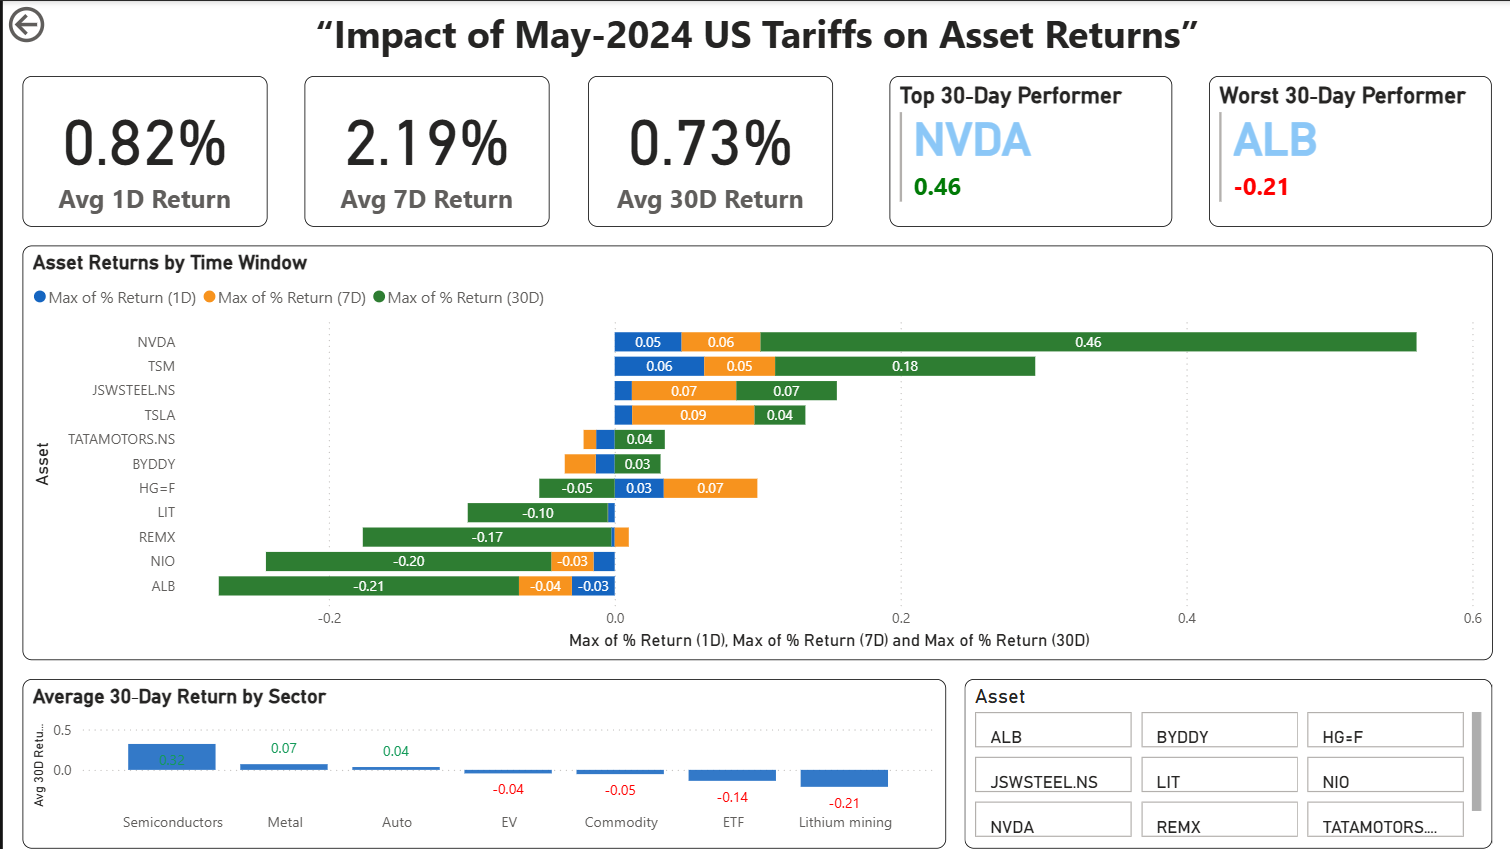

The dashboard page shown, as its layout file describes it:
{"tool":"powerbi","page":{"name":"Page 1","canvas":[1280,720],"ordinal":0},"visuals":[{"type":"textbox","box":[0,0,1280,64],"z":0},{"type":"card","title":"Avg 1-Day","fields":{"Values":["Tariff_Impact.Avg 1D Return"]},"box":[16,64,208,128],"z":1},{"type":"card","fields":{"Values":["Tariff_Impact.Avg 7D Return"]},"box":[256,64,208,128],"z":2},{"type":"card","fields":{"Values":["Tariff_Impact.Avg 30D Return"]},"box":[496,64,208,128],"z":3},{"type":"multiRowCard","title":"Top 30‑Day Performer","fields":{"Values":["Tariff_Impact.Top Asset Name 30D","Tariff_Impact.Top Asset 30D"]},"box":[760,64,240,128],"z":4},{"type":"actionButton","box":[0,0,100,40],"z":5},{"type":"multiRowCard","title":"Worst 30‑Day Performer","fields":{"Values":["Tariff_Impact.Bottom Asset Name 30D","Tariff_Impact.Bottom Asset 30D"]},"box":[1024,64,240,128],"z":6},{"type":"barChart","title":"Asset Returns by Time Window","fields":{"Category":["Tariff_Impact.Asset"],"Y":["Max(Tariff_Impact.% Return (1D))","Max(Tariff_Impact.% Return (7D))","Max(Tariff_Impact.% Return (30D))"]},"box":[16,208,1248,352],"z":7},{"type":"clusteredColumnChart","title":"Average 30‑Day Return by Sector","fields":{"Category":["Tariff_Impact.Sector"],"Y":["Tariff_Impact.Avg 30D Return"]},"box":[16,576,784,144],"z":8},{"type":"advancedSlicerVisual","fields":{"Values":["Tariff_Impact.Asset"]},"box":[816,576,448,144],"z":9}]}

Visuals, with their boxes in screenshot pixels (x1, y1, x2, y2), scaled from the page's 1280x720 canvas onto the 1510x849 screenshot:
textbox: 0/0/1509/75
"Avg 1-Day" card: 19/75/264/226
card - Tariff_Impact.Avg 7D Return: 302/75/547/226
card - Tariff_Impact.Avg 30D Return: 585/75/830/226
"Top 30‑Day Performer" multiRowCard: 897/75/1180/226
actionButton: 0/0/118/47
"Worst 30‑Day Performer" multiRowCard: 1208/75/1491/226
"Asset Returns by Time Window" barChart: 19/245/1491/660
"Average 30‑Day Return by Sector" clusteredColumnChart: 19/679/944/848
advancedSlicerVisual - Tariff_Impact.Asset: 963/679/1491/848
